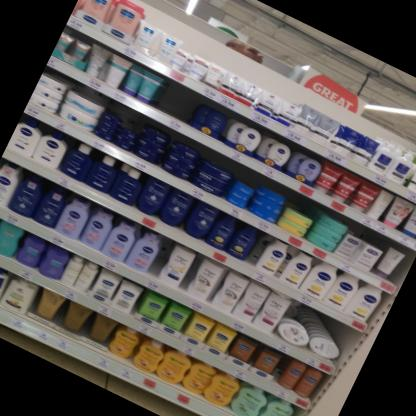empty_space: (155, 81, 202, 125), (146, 241, 173, 280)
